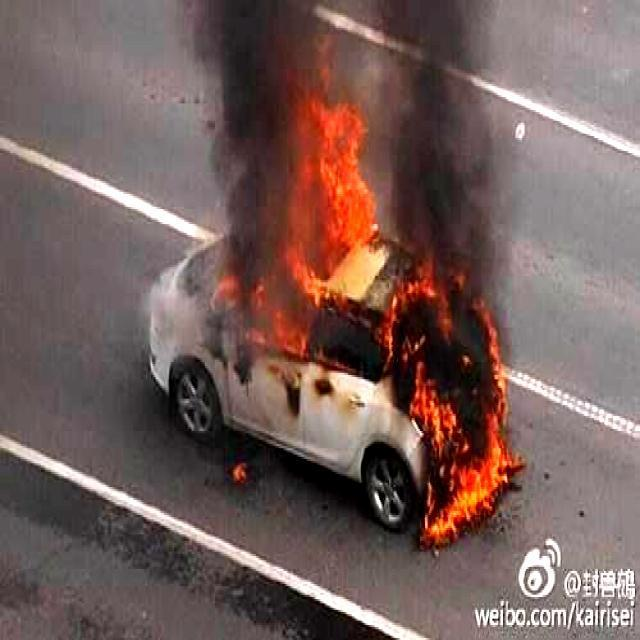Fire: (293, 82, 401, 318), (422, 312, 522, 546)
Smoke: (381, 7, 568, 340), (142, 0, 333, 286)
